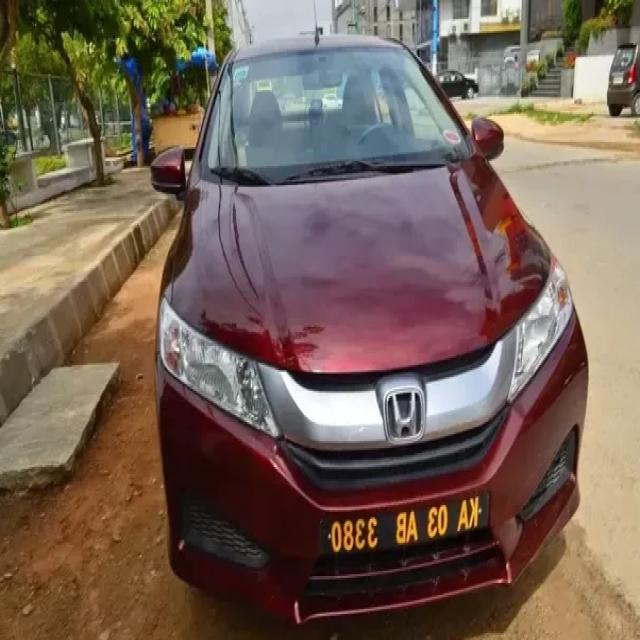number-plate: (318, 477, 491, 581)
